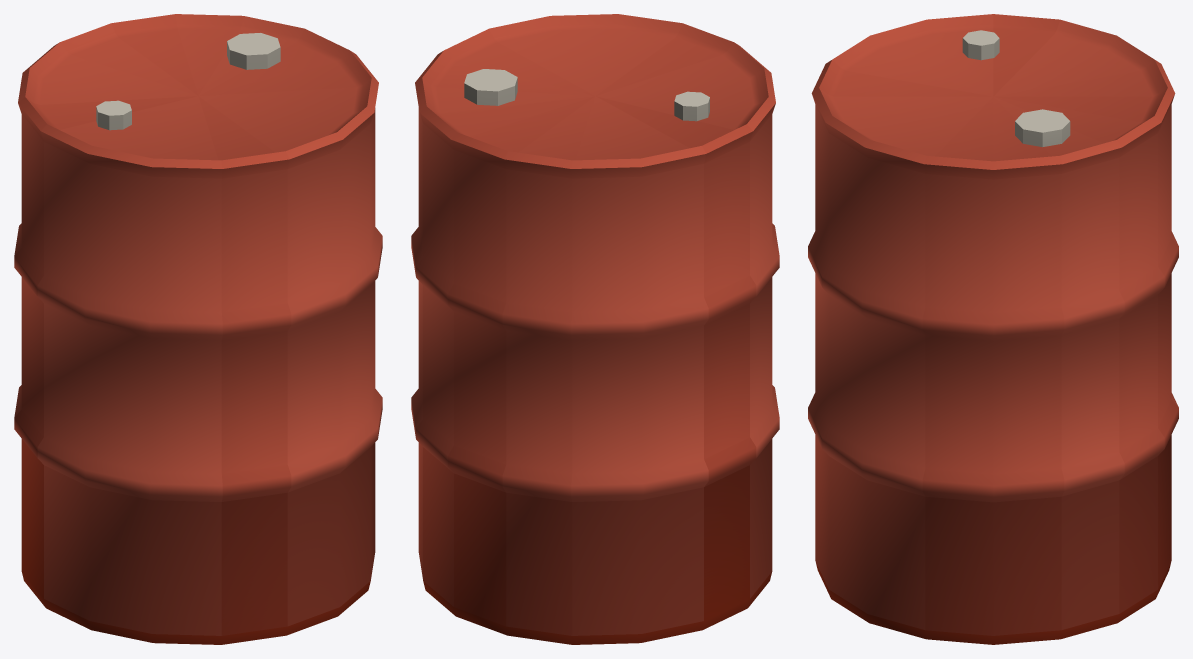
File: drum.glb
3 renders of one model, left to right at view 1: azimuth 30°, elevation 25°; view 2: azimuth 150°, elevation 25°; view 3: azimuth 270°, elevation 25°, orthographic.
Parts seen in each view (by area): view 1: drum_mesh; view 2: drum_mesh; view 3: drum_mesh.
Boxes of the visible parts, x1,y1,x2,y2 form: drum_mesh: (14,14,382,644); drum_mesh: (411,14,779,644); drum_mesh: (808,14,1178,644).
Bounding box in the file's own units: 0.604 × 0.89 × 0.604.
